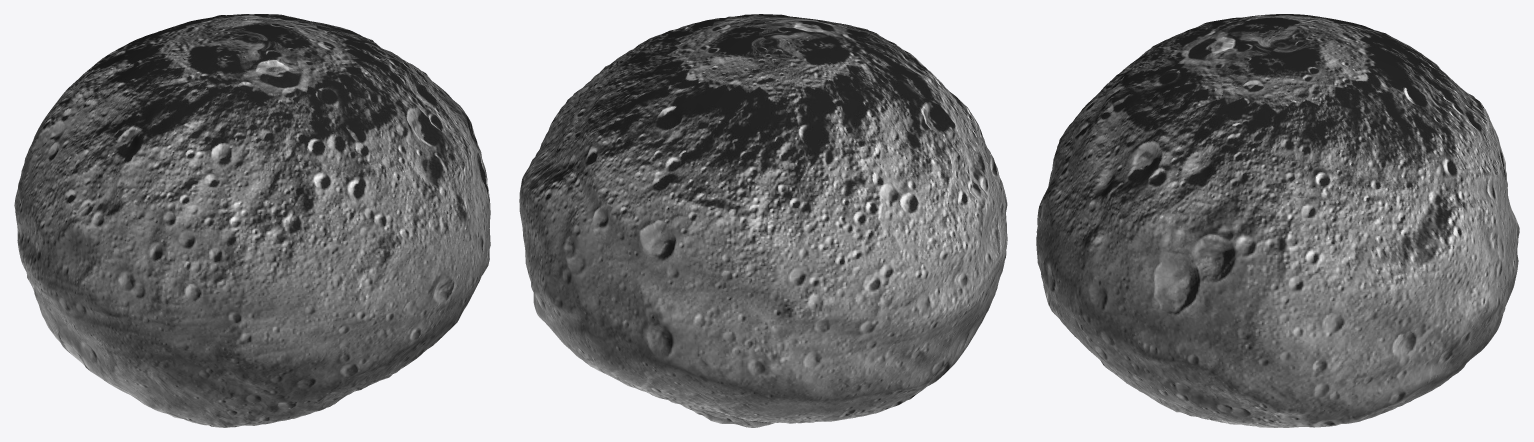
The model's file is asteroid-vesta.glb.
3 renders of one model, left to right at view 1: azimuth 30°, elevation 25°; view 2: azimuth 150°, elevation 25°; view 3: azimuth 270°, elevation 25°, orthographic. The views are drawn at different scales.
Parts seen in each view (by area): view 1: vesta; view 2: vesta; view 3: vesta.
Part boxes in pixels (<box>): vesta: <box>14,14,490,427</box>; vesta: <box>519,14,1007,427</box>; vesta: <box>1036,14,1519,427</box>.
Size of the model in its own units: 5733 by 4629 by 5562.
1 material, 1 textured.
